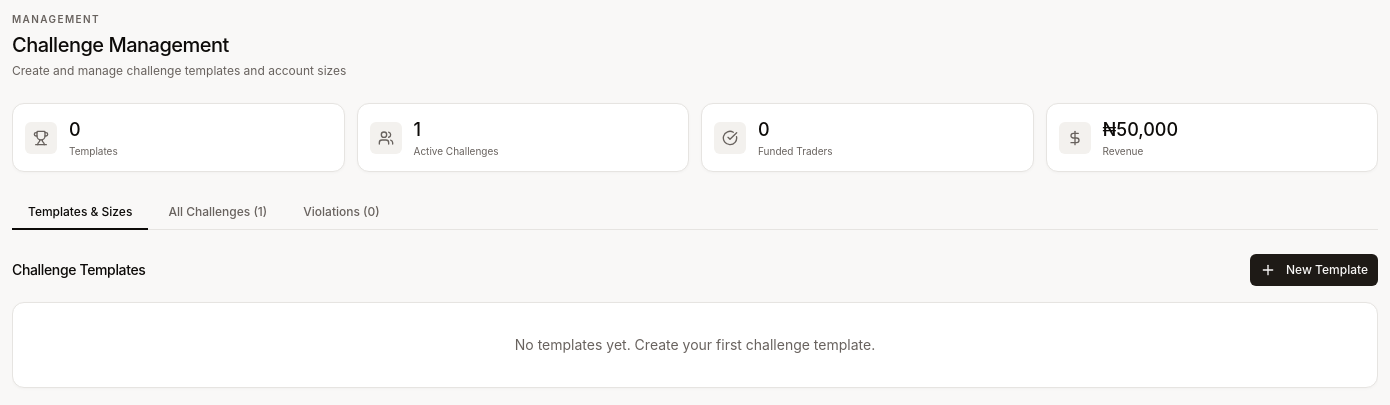
Test: AdminChallenges Page › Tabs › switches to challenges tab
The image size is (1390, 405).
Click the button "All Challenges (1)": click(218, 213) top-left (152, 196), bottom-right (283, 230)
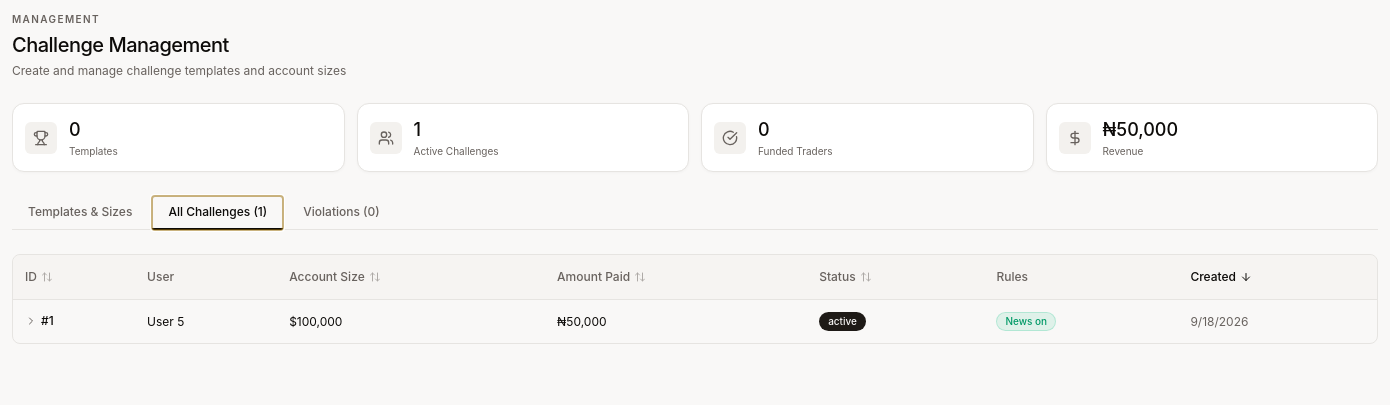
Expected: the text "User 5" is shown, top-left (135, 300), bottom-right (277, 343)
Expected: the text "$100,000" is shown, top-left (277, 300), bottom-right (545, 343)
